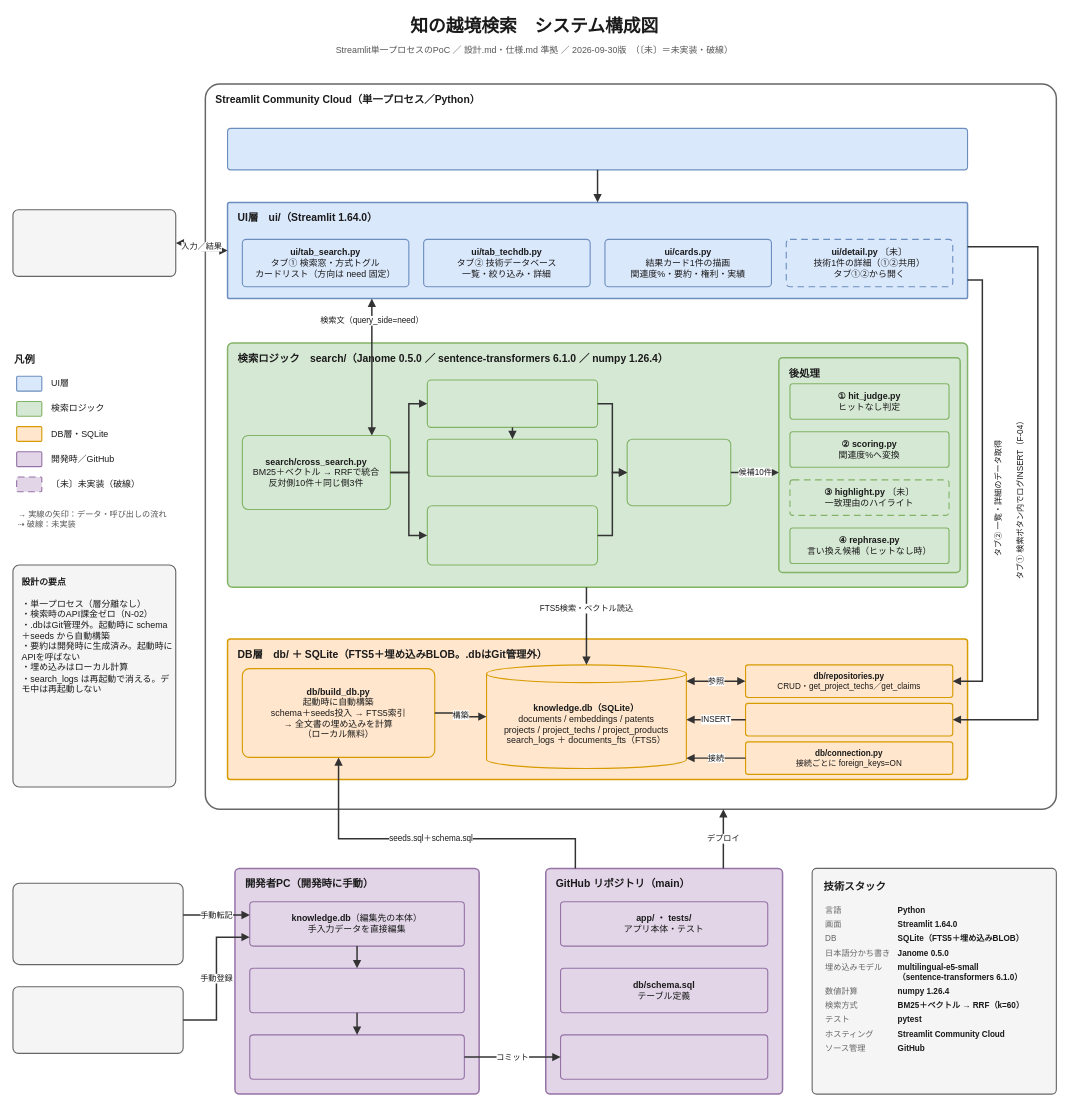
Some shapes in this 1070 by 1107 pixel diagram are drawn without their labels. The centre of each missing label's shape, as x and y in pixels:
"app.py Streamlit アプリのエントリーポイント：起動時にDB自動構築 → st.tabs() でタブ①②を切替" belongs at pixel 597 149.
"db/search_log.py 検索ログをINSERT（ヒット0件も記録）" belongs at pixel 849 719.
"fixtures/seeds.sql 手入力データの正本（テキスト）" belongs at pixel 664 1057.
"ingest/summarize.py 「平たく言うと」要約を1回だけ生成" belongs at pixel 357 990.
"J-PlatPat／INPIT開放特許DB 特許公報（名称・要約・背景・課題） を人力で転記" belongs at pixel 97 923.
"search/bm25.py FTS5（4列）上位50件" belongs at pixel 512 403.
"search/rrf.py RRF統合（k=60） 候補10件を選定" belongs at pixel 678 472.
"search/tokenizer.py Janome分かち書き（索引側と共用）" belongs at pixel 512 457.
"search/vector.py multilingual-e5-small フィールド別の最大類似度 上位50件" belongs at pixel 512 535.
"tools/export_seeds.py コミット前に seeds.sql へ書き出し" belongs at pixel 357 1057.
"ダミーニーズ／実在FAQ1文 手動登録（出典URLを残す）" belongs at pixel 97 1020.
"利用者 マーケ／商品企画担当 （約80名・ログイン不要）" belongs at pixel 94 243.
